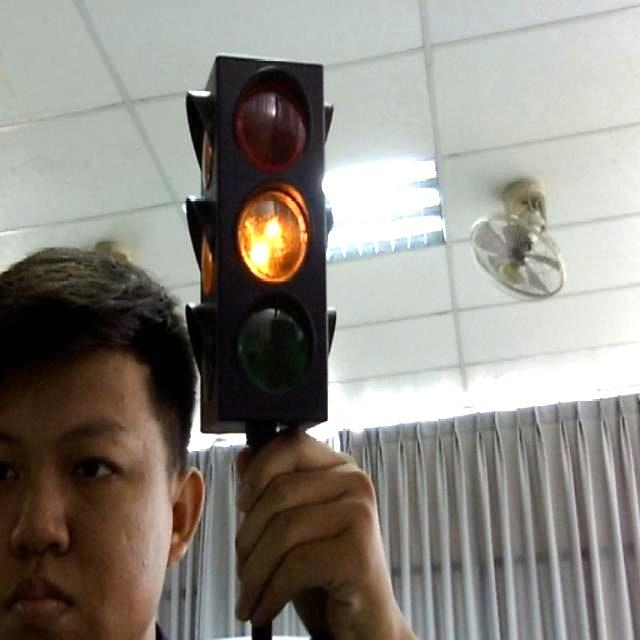Yellow: (189, 49, 346, 458)
